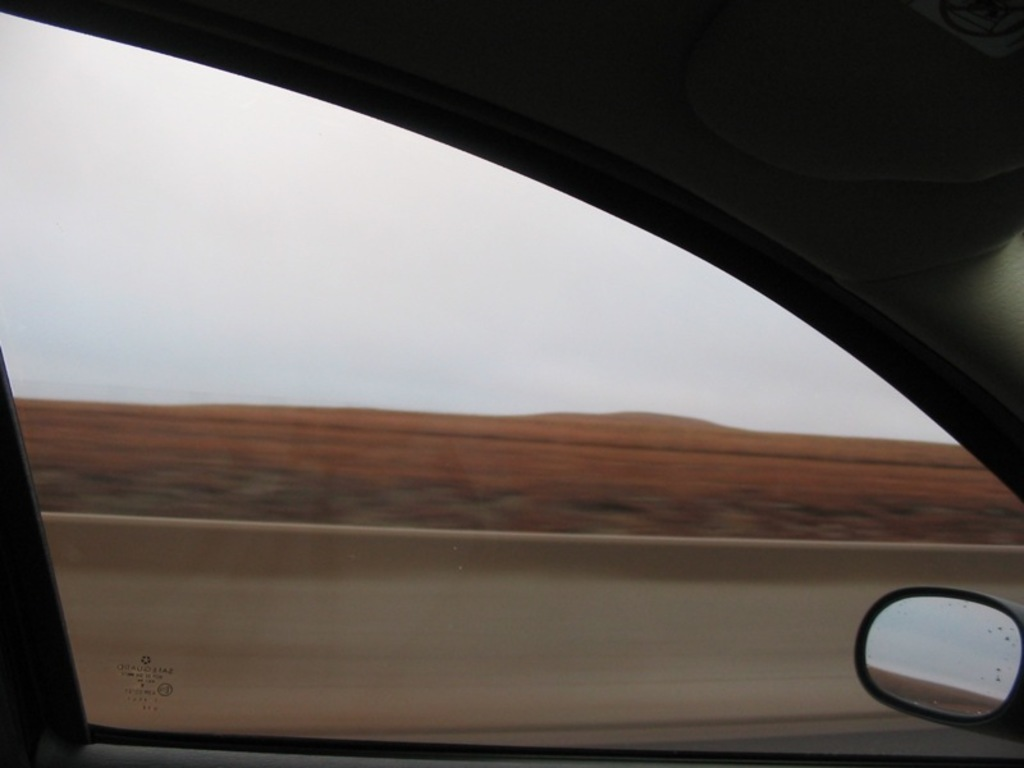cars: (0, 29, 1011, 768)
